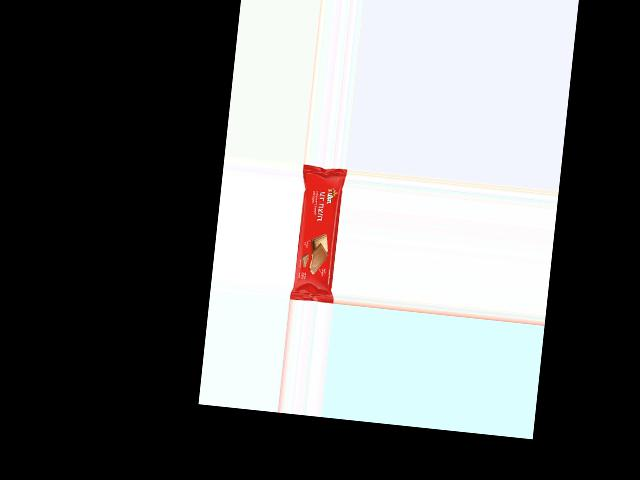chocolate: (288, 167, 346, 302)
